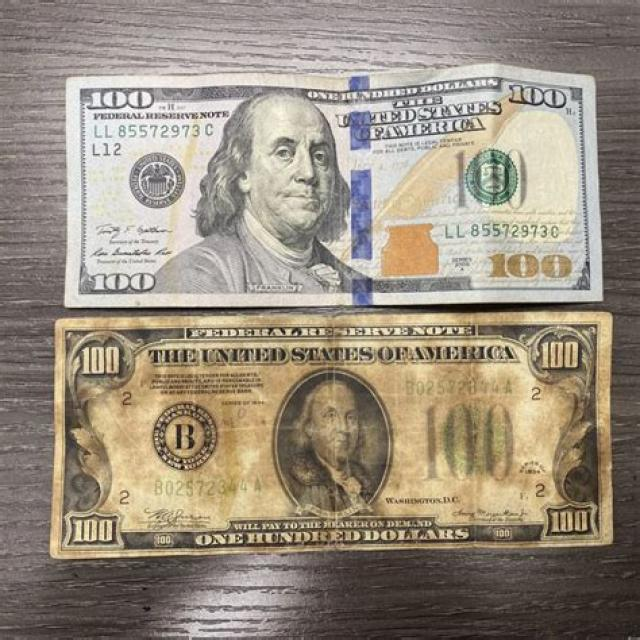Hundred: (61, 64, 606, 308)
